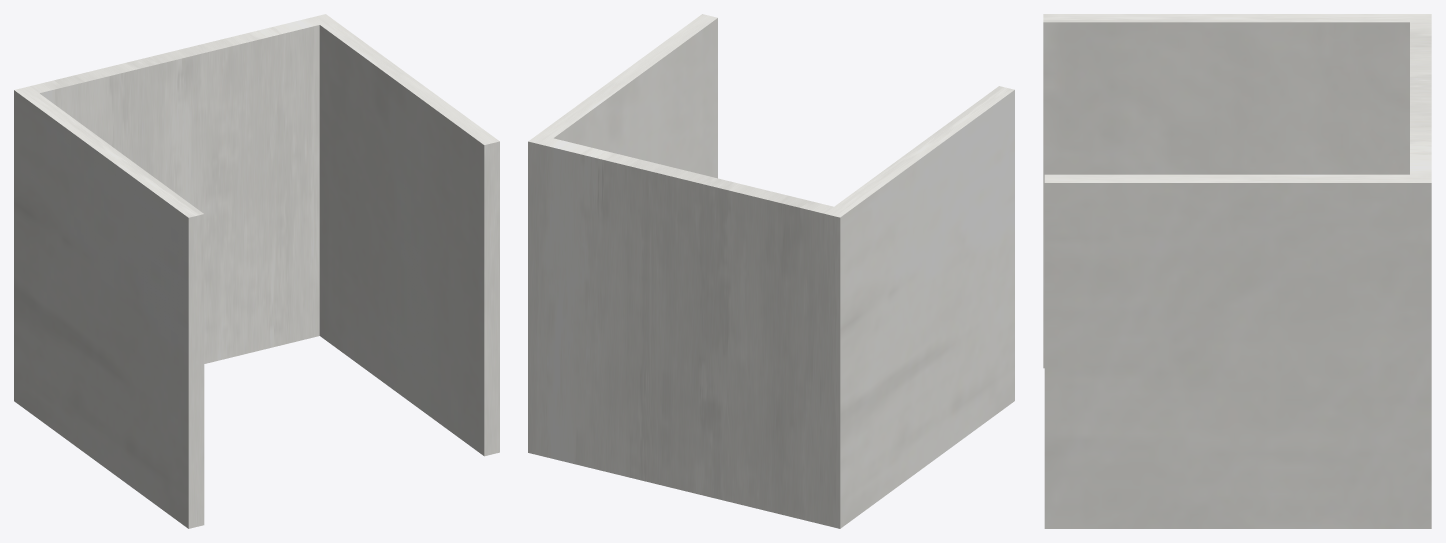
Rendered from ParedesAscensor.fbx.
3 views of the same model, side by side, from view 1: azimuth 30°, elevation 25°; view 2: azimuth 150°, elevation 25°; view 3: azimuth 270°, elevation 25° (orthographic). The views are drawn at different scales.
Parts seen in each view (by area): view 1: ParedAscensor; view 2: ParedAscensor; view 3: ParedAscensor.
Part boxes in pixels (<box>): ParedAscensor: <box>14,14,499,528</box>; ParedAscensor: <box>528,14,1014,528</box>; ParedAscensor: <box>1043,14,1431,528</box>.
Bounding box in the file's own units: 210 × 200 × 203.
